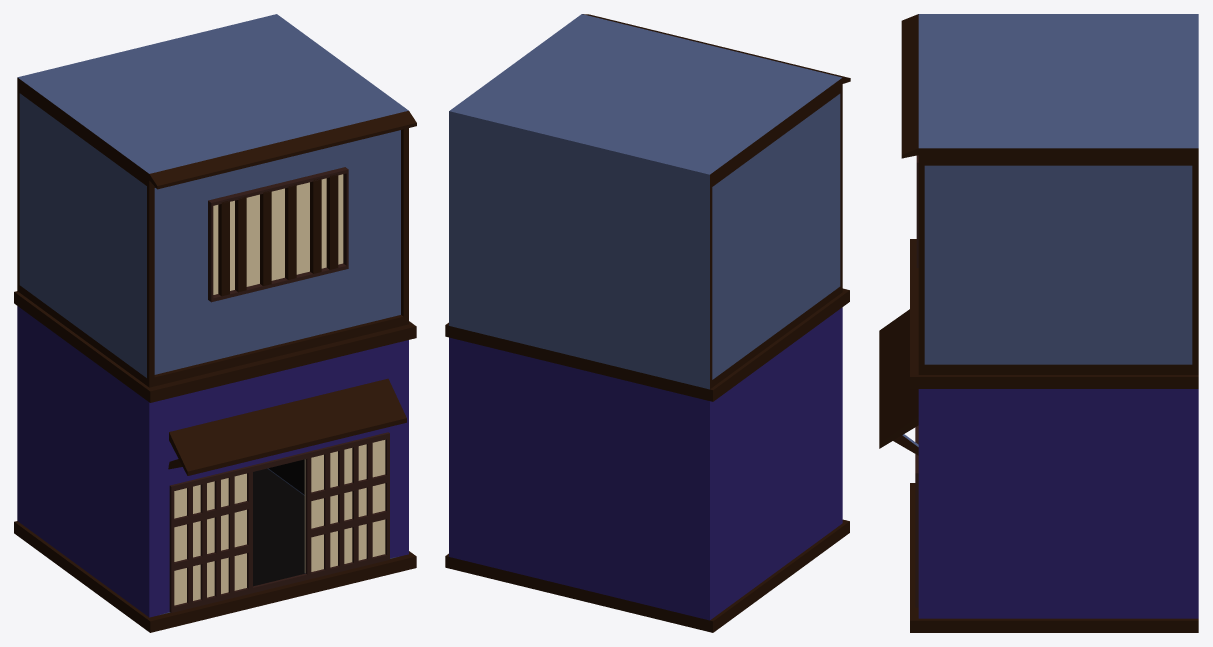
The model's file is shop4.fbx.
3 renders of one model, left to right at view 1: azimuth 30°, elevation 25°; view 2: azimuth 150°, elevation 25°; view 3: azimuth 270°, elevation 25°, orthographic. The views are drawn at different scales.
Visible parts, largest first — view 1: Cube.003; view 2: Cube.003; view 3: Cube.003.
Part boxes in pixels (left/top/right/bottom): Cube.003: left=14, top=14, right=416, bottom=632; Cube.003: left=445, top=14, right=850, bottom=632; Cube.003: left=879, top=14, right=1198, bottom=632.
Size of the model in its own units: 737 by 1203 by 721.
